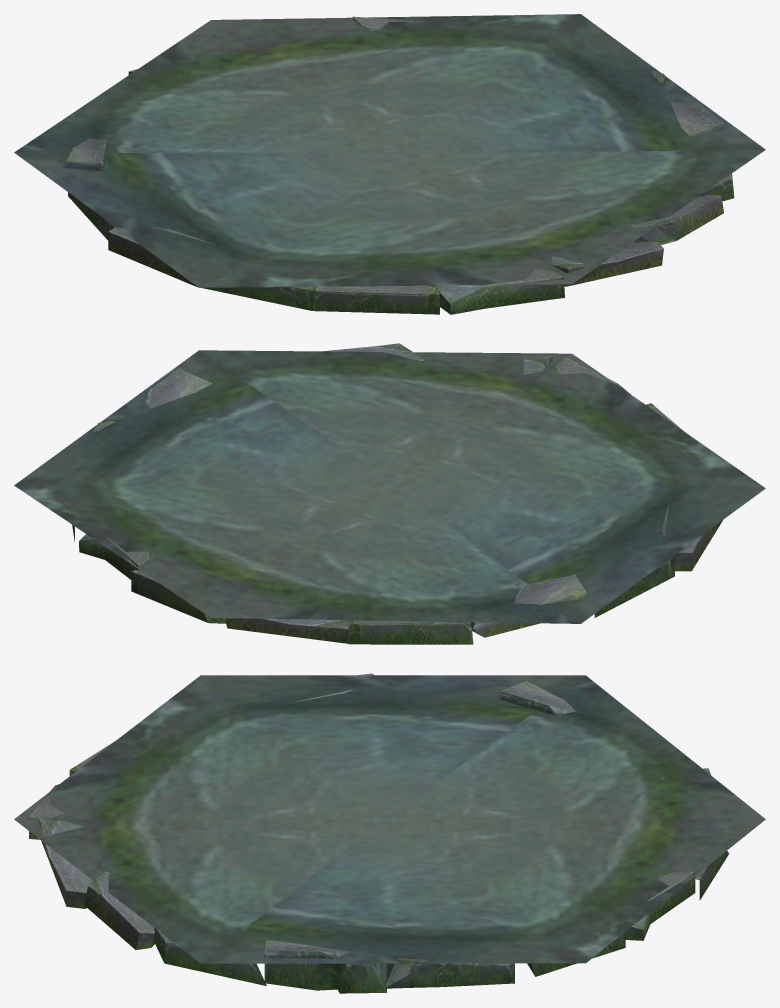
The model's file is SC001Jyuanpan_11.FBX.
3 renders of one model, top to bottom at view 1: azimuth 30°, elevation 25°; view 2: azimuth 150°, elevation 25°; view 3: azimuth 270°, elevation 25°, orthographic. The views are drawn at different scales.
Visible parts, largest first — view 1: SC001Jyuanpan_11_lujing, SC001Jyuanpan_11; view 2: SC001Jyuanpan_11_lujing, SC001Jyuanpan_11; view 3: SC001Jyuanpan_11_lujing, SC001Jyuanpan_11.
Boxes of the visible parts, box(x1,y1,x2,y2) form: SC001Jyuanpan_11_lujing: box(14, 14, 765, 287); SC001Jyuanpan_11: box(63, 16, 734, 314); SC001Jyuanpan_11_lujing: box(14, 350, 765, 623); SC001Jyuanpan_11: box(72, 343, 722, 644); SC001Jyuanpan_11_lujing: box(14, 675, 765, 963); SC001Jyuanpan_11: box(28, 673, 728, 993).
Size of the model in its own units: 7.15 by 0.4499 by 7.72.
